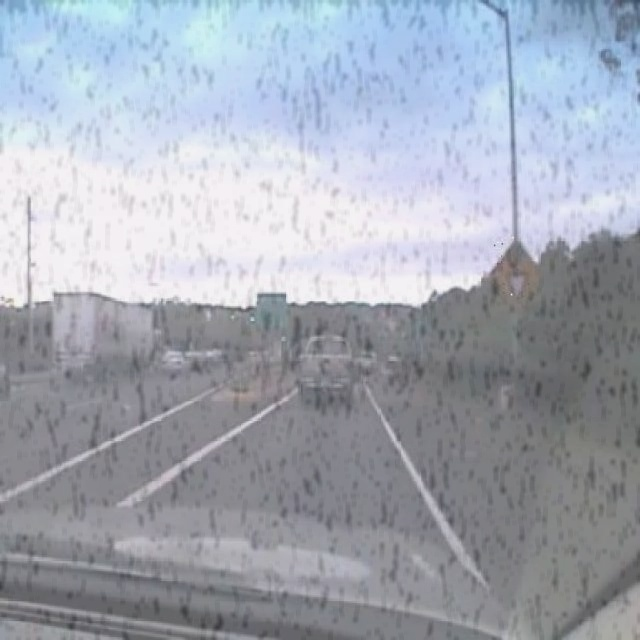yieldAhead: (489, 237, 544, 309)
